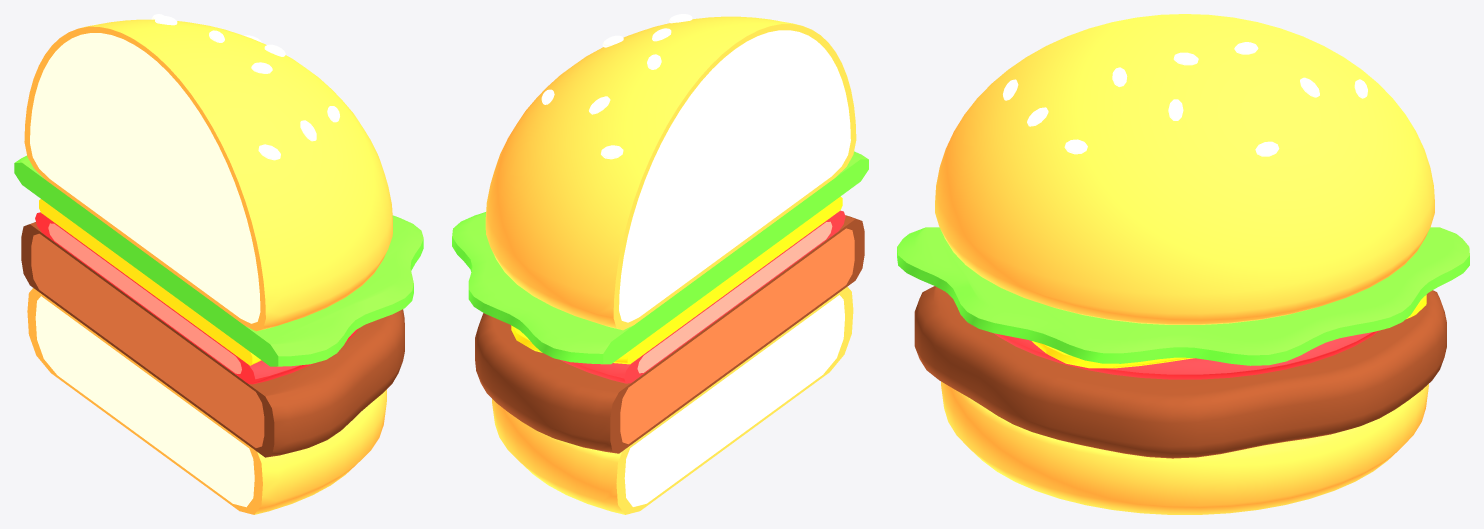
The picture shows the model from 3 angles, left to right: view 1: azimuth 30°, elevation 25°; view 2: azimuth 150°, elevation 25°; view 3: azimuth 270°, elevation 25°; orthographic projection. The views are drawn at different scales.
Visible parts, largest first — view 1: Burger-right; view 2: Burger-right; view 3: Burger-right.
Part boxes in pixels (left/top/right/bottom): Burger-right: left=14, top=14, right=423, bottom=514; Burger-right: left=452, top=14, right=868, bottom=514; Burger-right: left=897, top=14, right=1469, bottom=514.
Bounding box in the file's own units: 0.4114 × 0.6455 × 0.8182.
